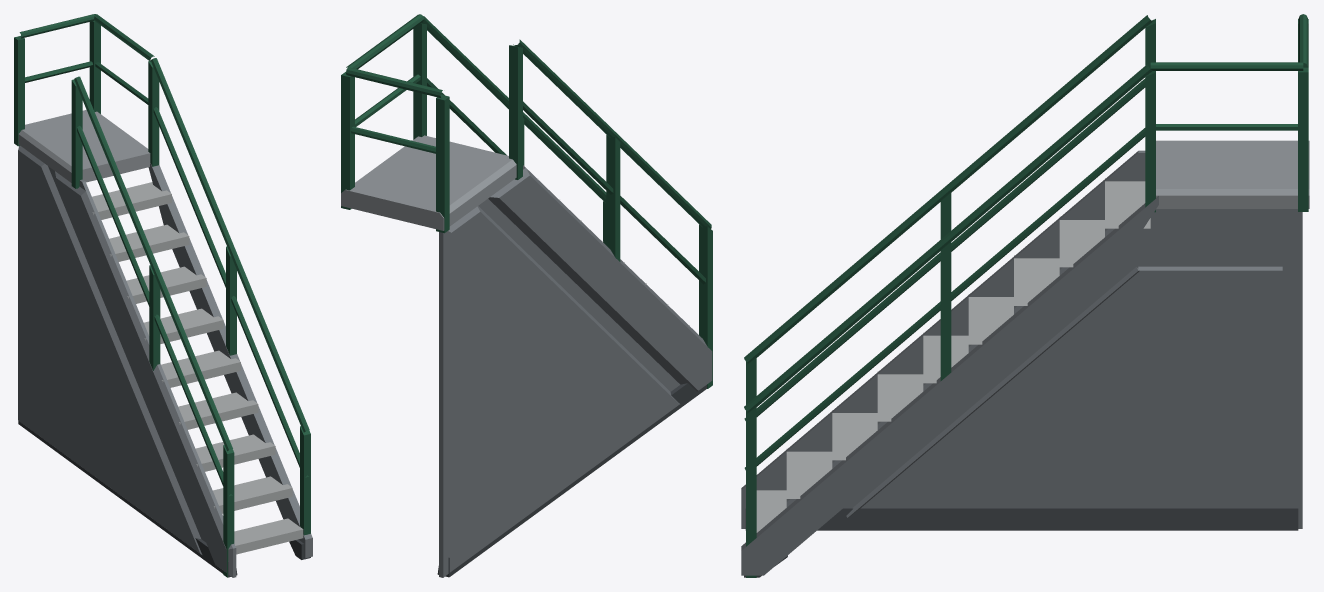
File: stair2.glb
The picture shows the model from 3 angles, left to right: view 1: azimuth 30°, elevation 25°; view 2: azimuth 150°, elevation 25°; view 3: azimuth 270°, elevation 25°; orthographic projection. The views are drawn at different scales.
Parts seen in each view (by area): view 1: staircase; view 2: staircase; view 3: staircase.
Part boxes in pixels (x1=…): staircase: x1=14, y1=14, x2=312, y2=577; staircase: x1=341, y1=14, x2=712, y2=577; staircase: x1=741, y1=14, x2=1309, y2=577.
Bounding box in the file's own units: 0.9 × 3.98 × 4.
